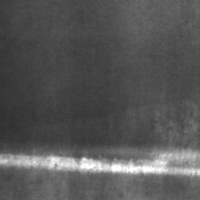scratches: (0, 149, 199, 178)
